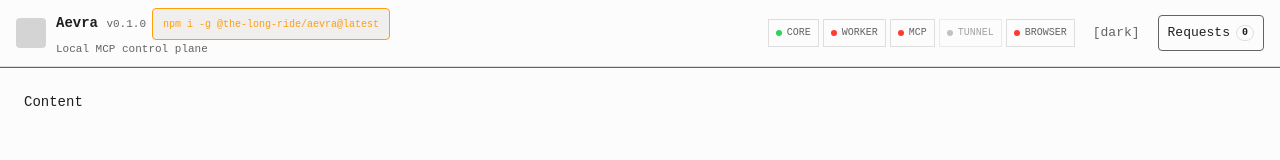
Test: AppShell version update button › shows update command button when outdated and copies to clipboard on click
Click the button with aria-label "Click to copy update command" at (271, 24), box x1=152 y1=8 x2=390 y2=40
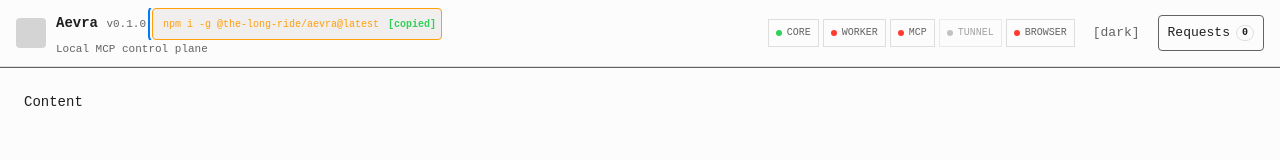
expect the text "[copied]" is shown: met, box x1=388 y1=18 x2=436 y2=30
